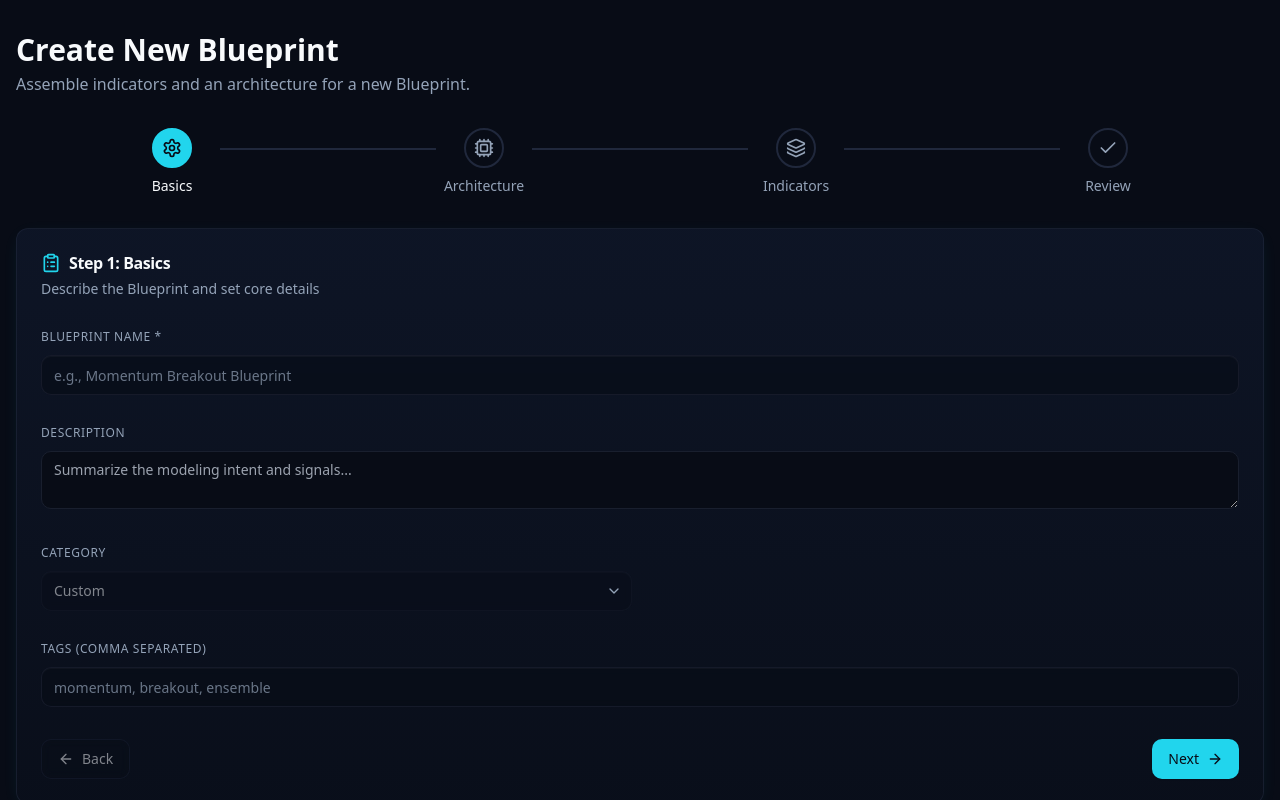
it: BlueprintWizardView › shows validation error in UI when step is invalid
Click the button "Next".
click(1196, 759)  # box [1152,739,1239,779]
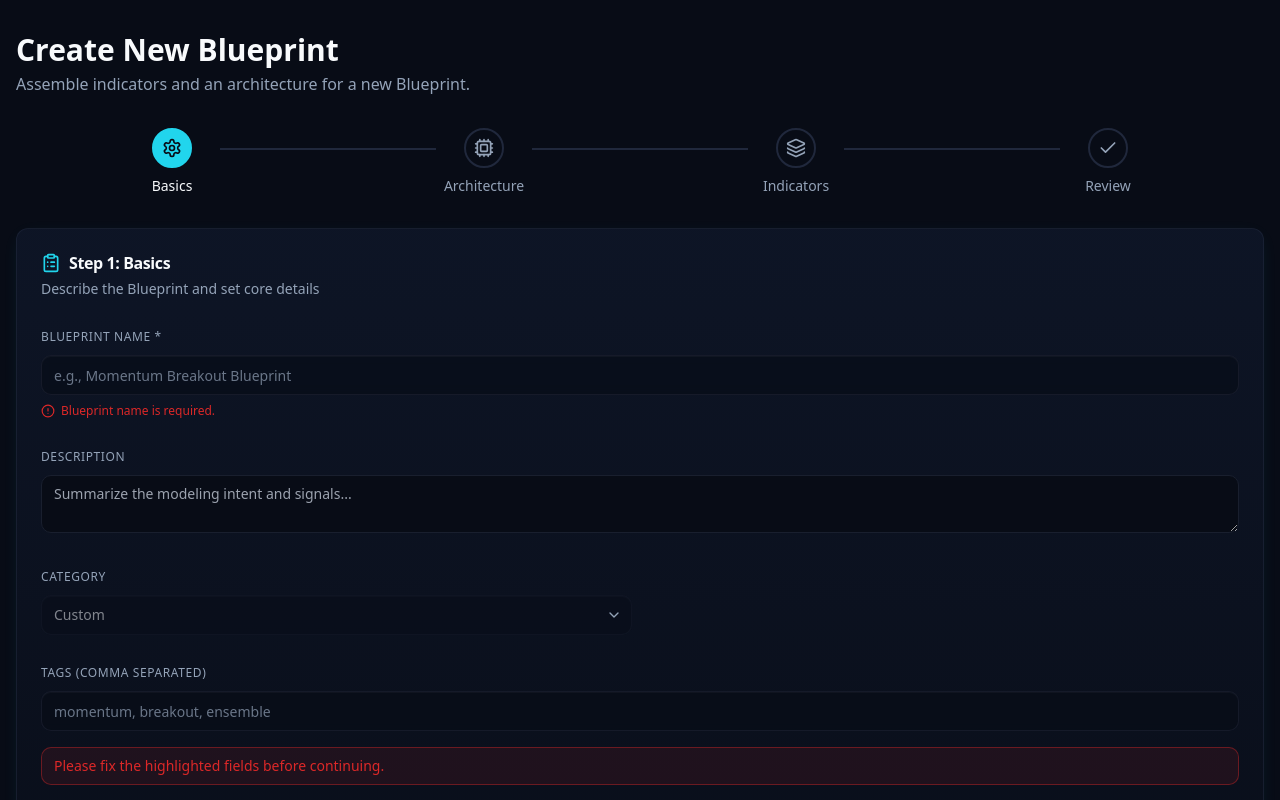
Check: the text "Blueprint name is required." is shown, box [61,403,215,419]
Check: the text "Please fix the highlighted fields before continuing." is shown, box [41,747,1239,785]
